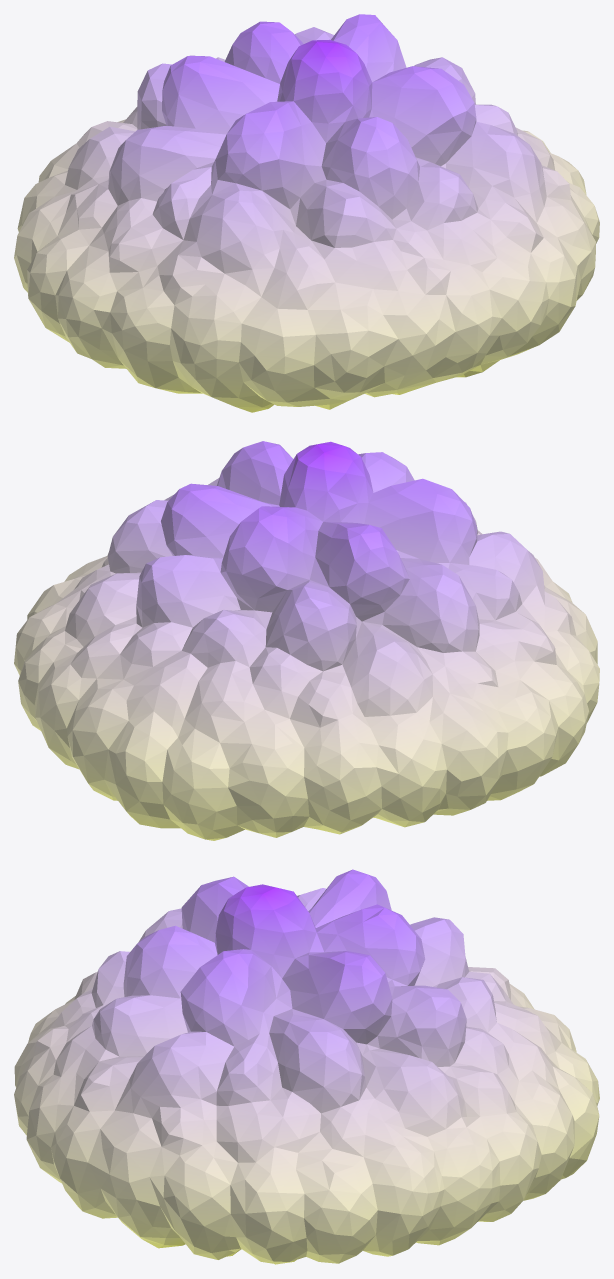
The model's file is 87_cyb_laser_gradient_fish_scales_2892_2026_10_03_8ca302.glb.
The picture shows the model from 3 angles, top to bottom: view 1: azimuth 30°, elevation 25°; view 2: azimuth 150°, elevation 25°; view 3: azimuth 270°, elevation 25°; orthographic projection.
Parts seen in each view (by area): view 1: geometry_0; view 2: geometry_0; view 3: geometry_0.
Part boxes in pixels (left/top/right/bottom): geometry_0: left=14, top=14, right=599, bottom=412; geometry_0: left=14, top=441, right=599, bottom=840; geometry_0: left=14, top=869, right=599, bottom=1264.
Size of the model in its own units: 0.9985 by 0.5728 by 0.9818.
